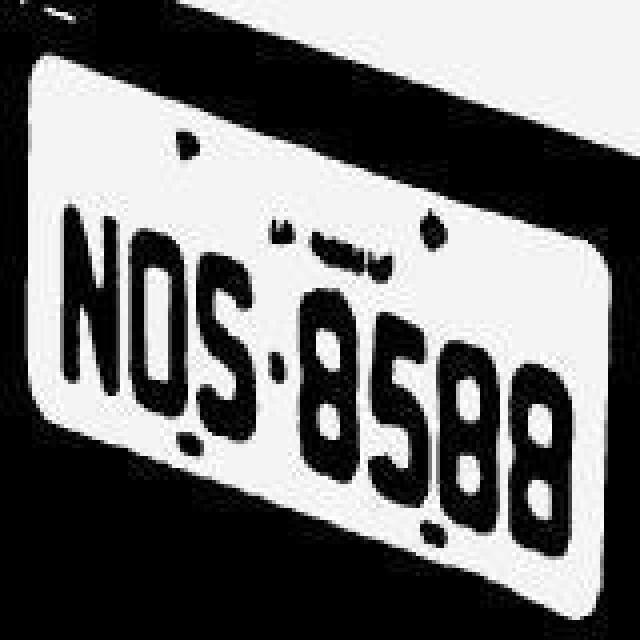5: (358, 296, 434, 512)
8: (506, 324, 582, 572), (430, 322, 506, 534), (290, 288, 366, 496)
N: (46, 142, 122, 402)
O: (124, 206, 196, 418)
S: (192, 246, 272, 442)
